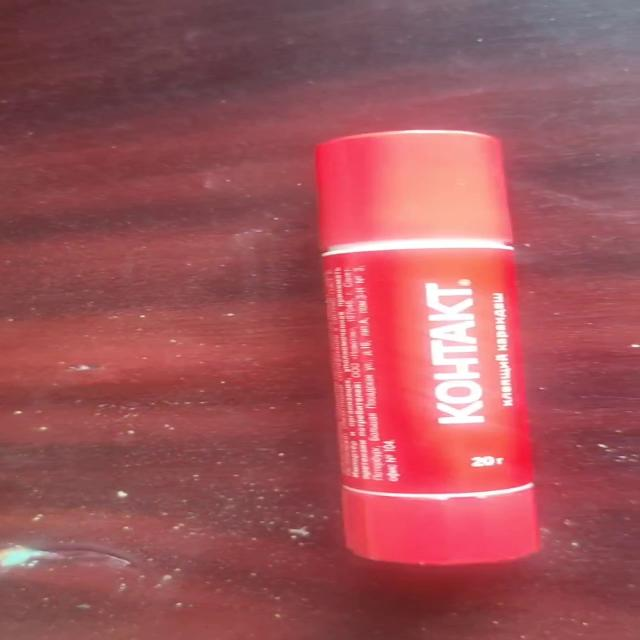glue: (313, 128, 541, 566)
